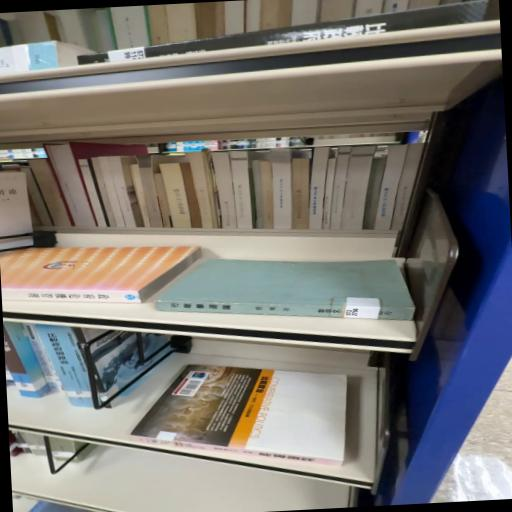flat: (132, 365, 360, 466), (155, 260, 416, 322), (1, 247, 202, 305)
